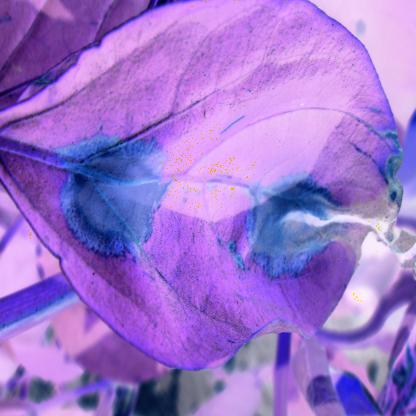Bell_pepper leaf spot: (15, 20, 408, 375)
